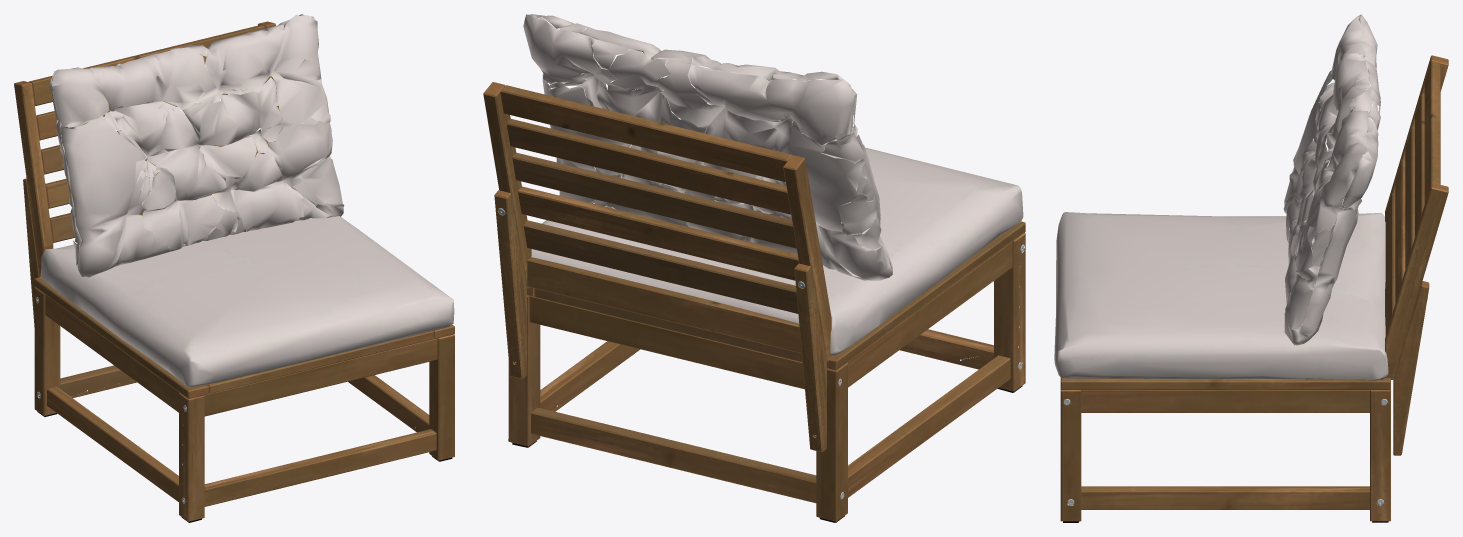
3 views of the same model, side by side, from view 1: azimuth 30°, elevation 25°; view 2: azimuth 150°, elevation 25°; view 3: azimuth 270°, elevation 25° (orthographic). The views are drawn at different scales.
Parts seen in each view (by area): view 1: kuddarna-back-62, kuddarna-seat-62, nammaro-seat-63, nammaro-back-60; view 2: nammaro-back-60, nammaro-seat-63, kuddarna-back-62, kuddarna-seat-62; view 3: kuddarna-seat-62, nammaro-seat-63, kuddarna-back-62, nammaro-back-60.
Part boxes in pixels (x1,y1,x2,y2): kuddarna-back-62: (49,14,344,277); kuddarna-seat-62: (40,201,454,387); nammaro-seat-63: (34,277,454,522); nammaro-back-60: (14,21,296,326); nammaro-back-60: (483,82,831,452); nammaro-seat-63: (508,221,1025,522); kuddarna-back-62: (523,14,892,280); kuddarna-seat-62: (531,133,1023,355); kuddarna-seat-62: (1054,212,1388,380); nammaro-seat-63: (1060,378,1390,522); kuddarna-back-62: (1283,14,1380,345); nammaro-back-60: (1385,55,1448,455).
Bounding box in the file's own units: 0.6354 × 0.7905 × 0.752.
7 materials, 7 textured.
